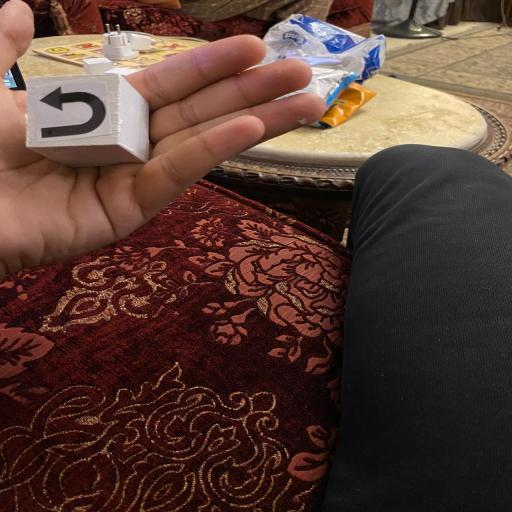Undo: (23, 70, 153, 162)
